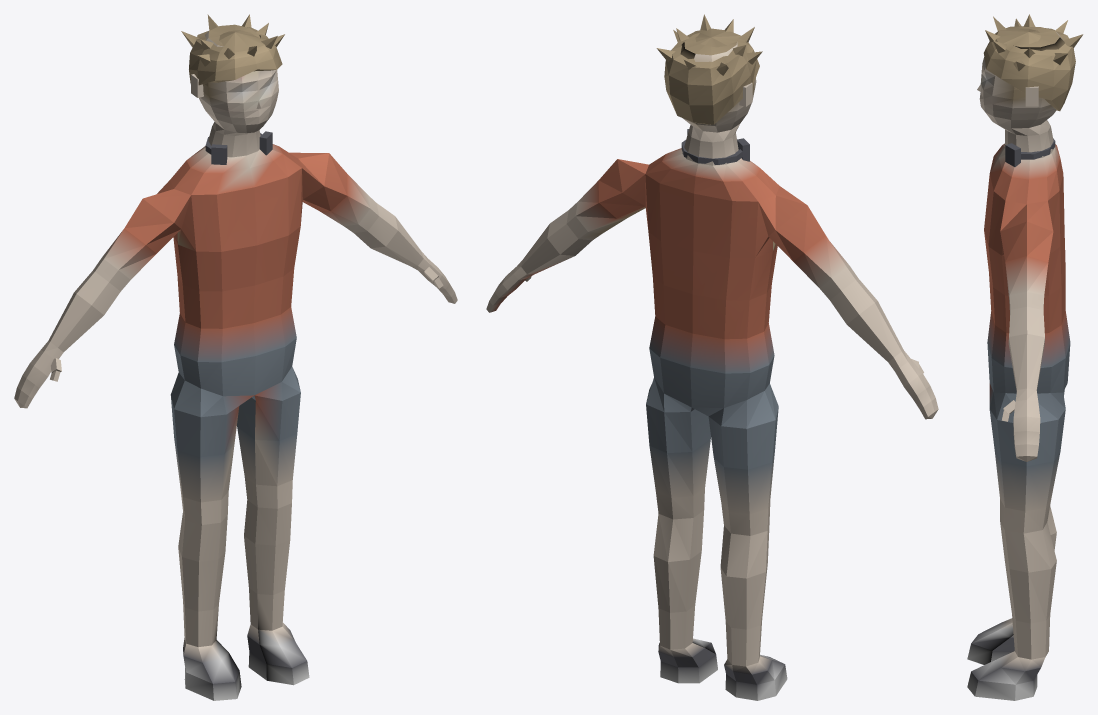
Rendered from char__pessoa__multidao_07.glb.
The picture shows the model from 3 angles, left to right: view 1: azimuth 30°, elevation 25°; view 2: azimuth 150°, elevation 25°; view 3: azimuth 270°, elevation 25°; orthographic projection.
Visible parts, largest first — view 1: char__pessoa__multidao_07; view 2: char__pessoa__multidao_07; view 3: char__pessoa__multidao_07.
Part boxes in pixels (x1,y1,x2,y2): char__pessoa__multidao_07: (14,14,457,700); char__pessoa__multidao_07: (486,14,938,700); char__pessoa__multidao_07: (967,14,1083,700).
Bounding box in the file's own units: 1.2 × 1.7 × 0.2761.
